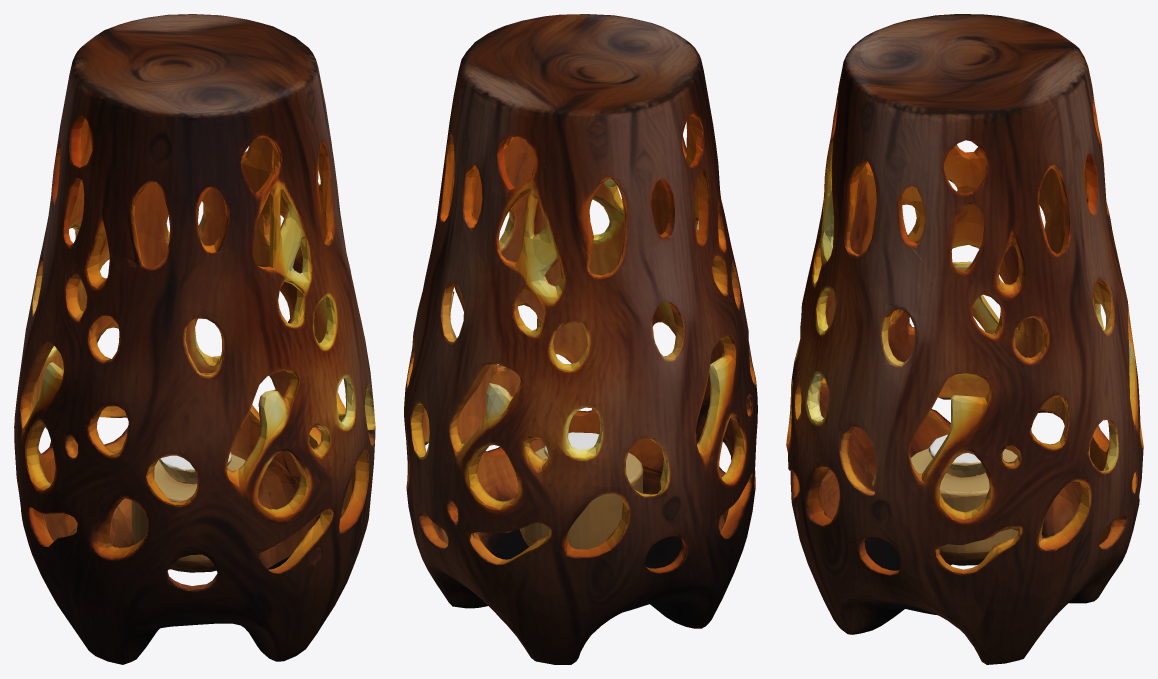
File: wooden-table-lamp-3d.jpeg.glb
3 views of the same model, side by side, from view 1: azimuth 30°, elevation 25°; view 2: azimuth 150°, elevation 25°; view 3: azimuth 270°, elevation 25° (orthographic).
Visible parts, largest first — view 1: world; view 2: world; view 3: world.
Boxes of the visible parts, x1,y1,x2,y2 form: world: (14, 14, 375, 664); world: (404, 14, 757, 664); world: (786, 14, 1143, 664).
Size of the model in its own units: 0.5884 by 0.9979 by 0.5888.
1 material, 1 textured.
